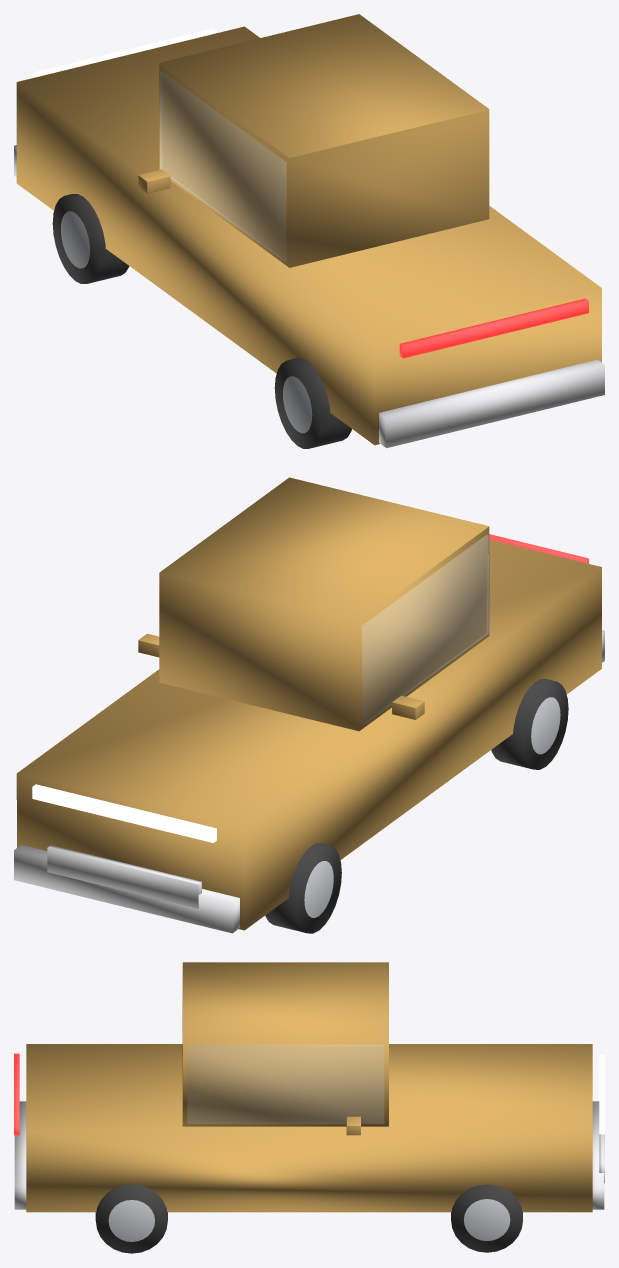
File: vehicle.glb
3 renders of one model, top to bottom at view 1: azimuth 30°, elevation 25°; view 2: azimuth 150°, elevation 25°; view 3: azimuth 270°, elevation 25°, orthographic. The views are drawn at different scales.
Visible parts, largest first — view 1: BODY_Main, BODY_Roof, GLASS_Greenhouse, BODY_Bumpers_Rear, WHEEL_RR_Tire, LIGHT_Taillights, WHEEL_FR_Tire, WHEEL_RR_Alloy, WHEEL_FR_Alloy, LIGHT_Headlights, BODY_Mirror_R; view 2: BODY_Main, BODY_Roof, GLASS_Greenhouse, BODY_Bumpers_Front, BODY_Grille, WHEEL_RR_Tire, WHEEL_FR_Tire, LIGHT_Headlights, WHEEL_RR_Alloy, WHEEL_FR_Alloy, BODY_Mirror_R, LIGHT_Taillights; view 3: BODY_Main, BODY_Roof, GLASS_Greenhouse, WHEEL_RL_Tire, WHEEL_FL_Tire, WHEEL_RL_Alloy, WHEEL_FL_Alloy, BODY_Bumpers_Rear, BODY_Bumpers_Front, LIGHT_Taillights, LIGHT_Headlights.
Boxes of the visible parts, <box> form: BODY_Main: <box>16,26,601,445</box>; BODY_Roof: <box>159,14,489,267</box>; GLASS_Greenhouse: <box>160,71,286,261</box>; BODY_Bumpers_Rear: <box>379,359,604,448</box>; WHEEL_RR_Tire: <box>274,358,351,448</box>; LIGHT_Taillights: <box>399,298,588,358</box>; WHEEL_FR_Tire: <box>52,194,129,283</box>; WHEEL_RR_Alloy: <box>283,376,312,433</box>; WHEEL_FR_Alloy: <box>60,211,90,268</box>; LIGHT_Headlights: <box>32,28,216,77</box>; BODY_Mirror_R: <box>138,169,170,193</box>; BODY_Main: <box>16,539,601,930</box>; BODY_Roof: <box>159,477,489,731</box>; GLASS_Greenhouse: <box>362,535,488,724</box>; BODY_Bumpers_Front: <box>14,845,239,933</box>; BODY_Grille: <box>47,845,201,908</box>; WHEEL_RR_Tire: <box>491,679,568,769</box>; WHEEL_FR_Tire: <box>265,843,341,933</box>; LIGHT_Headlights: <box>32,784,216,842</box>; WHEEL_RR_Alloy: <box>531,697,560,754</box>; WHEEL_FR_Alloy: <box>304,861,333,917</box>; BODY_Mirror_R: <box>392,695,424,719</box>; LIGHT_Taillights: <box>489,534,588,563</box>; BODY_Main: <box>26,1044,592,1212</box>; BODY_Roof: <box>182,962,388,1126</box>; GLASS_Greenhouse: <box>187,1045,383,1123</box>; WHEEL_RL_Tire: <box>95,1184,167,1253</box>; WHEEL_FL_Tire: <box>451,1184,522,1252</box>; WHEEL_RL_Alloy: <box>108,1200,154,1241</box>; WHEEL_FL_Alloy: <box>464,1199,510,1240</box>; BODY_Bumpers_Rear: <box>14,1101,26,1209</box>; BODY_Bumpers_Front: <box>592,1101,604,1209</box>; LIGHT_Taillights: <box>14,1053,19,1135</box>; LIGHT_Headlights: <box>599,1054,604,1134</box>.
Size of the model in its own units: 2.11 by 1.88 by 4.91.
